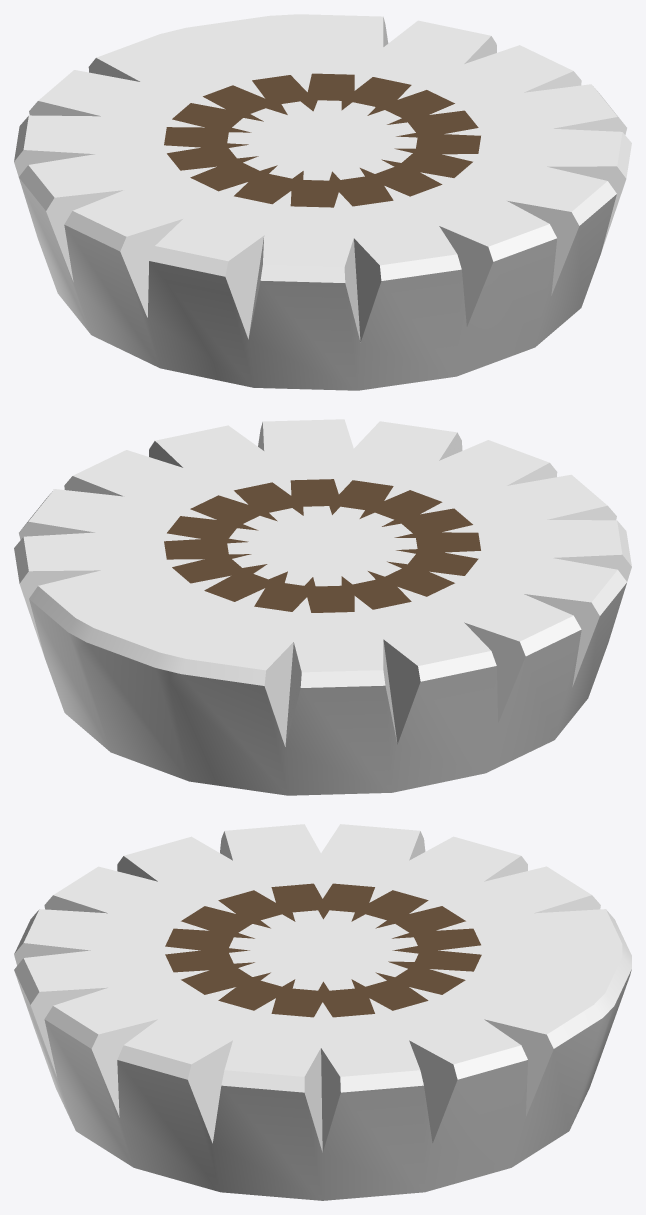
Rendered from SM_VolcanicFlats_SulphuricHorseshoe_Var1.fbx.
3 views of the same model, one above another, from view 1: azimuth 30°, elevation 25°; view 2: azimuth 150°, elevation 25°; view 3: azimuth 270°, elevation 25° (orthographic).
Parts seen in each view (by area): view 1: Cylinder.009; view 2: Cylinder.009; view 3: Cylinder.009.
Part boxes in pixels (x1,y1,x2,y2): Cylinder.009: (14, 14, 631, 390); Cylinder.009: (14, 419, 631, 795); Cylinder.009: (14, 824, 631, 1200).
Bounding box in the file's own units: 231 × 56.84 × 231.
